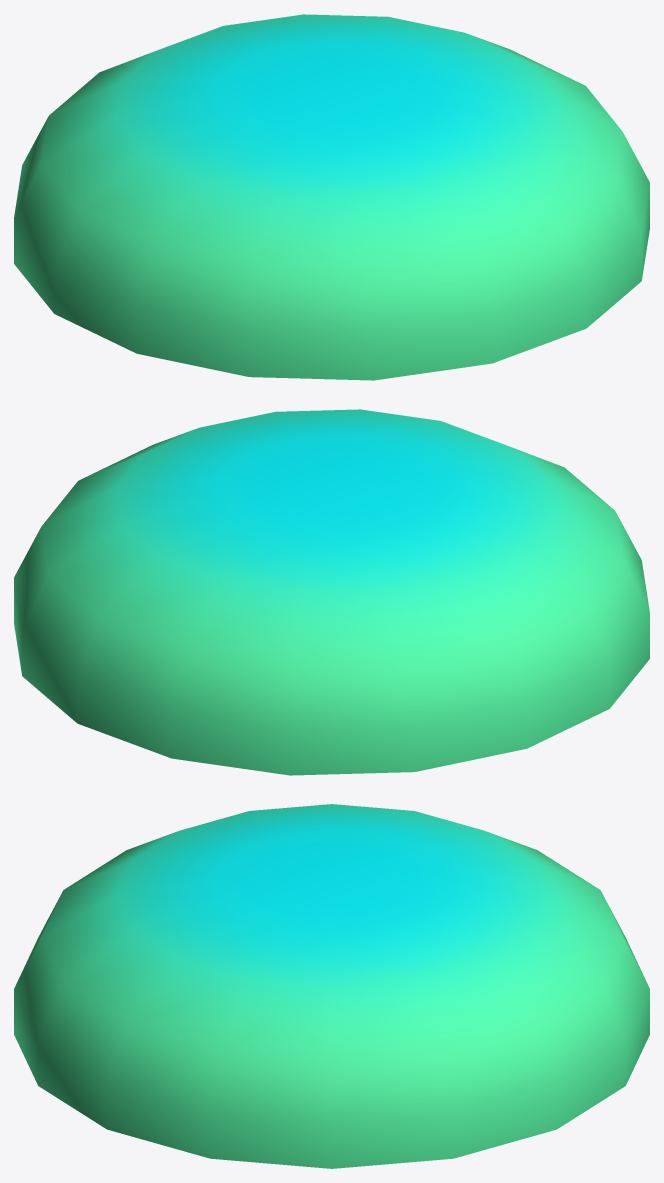
File: Button.glb
The picture shows the model from 3 angles, top to bottom: view 1: azimuth 30°, elevation 25°; view 2: azimuth 150°, elevation 25°; view 3: azimuth 270°, elevation 25°; orthographic projection.
Visible parts, largest first — view 1: Button.001; view 2: Button.001; view 3: Button.001.
Boxes of the visible parts, <box> form: Button.001: <box>14,14,649,380</box>; Button.001: <box>14,409,649,775</box>; Button.001: <box>14,804,649,1168</box>.
Bounding box in the file's own units: 0.9275 × 0.2485 × 0.9275.
Materials: 1 (1 with a texture image).
